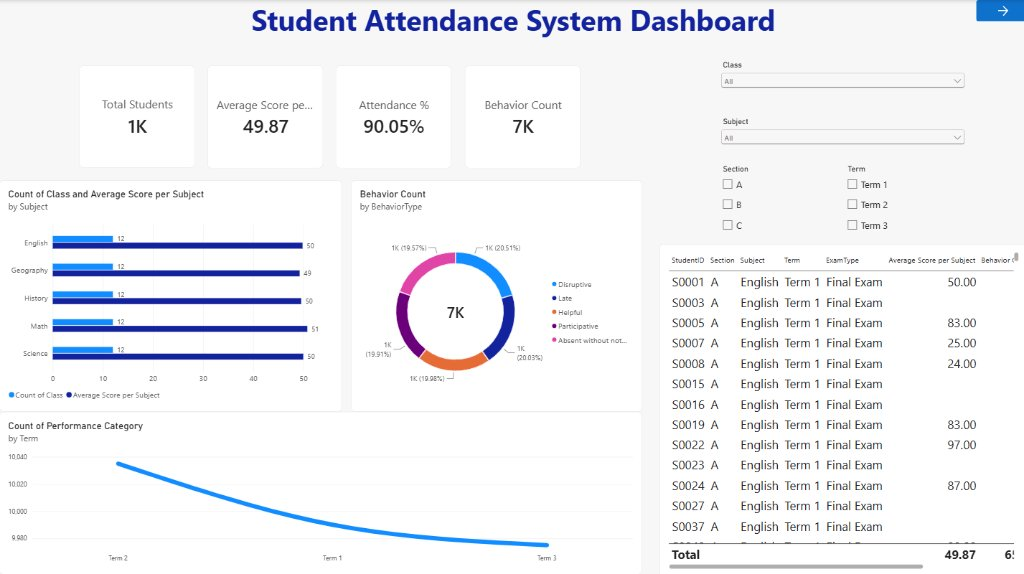

The page's visual inventory and layout, read from the dashboard file:
{"tool":"powerbi","page":{"name":"Main Page","canvas":[1920,1080],"ordinal":0},"visuals":[{"type":"slicer","fields":{"Values":["Students.Class"]},"box":[1344,112,464,70.4],"z":0,"group":"g1"},{"type":"cardVisual","fields":{"Data":["_Measures.Total Students"]},"box":[148.5,122.1,216,192],"z":0},{"type":"cardVisual","fields":{"Data":["_Measures.Attendance %"]},"box":[628.5,122.1,216,192],"z":1000},{"type":"slicer","fields":{"Values":["Students.Section"]},"box":[1344,305.6,232,158.4],"z":1000,"group":"g1"},{"type":"cardVisual","fields":{"Data":["_Measures.Average Score per Subject"]},"box":[388.5,122.1,216,192],"z":2000},{"type":"slicer","fields":{"Values":["Scores.Subject"]},"box":[1344,217.6,464,88],"z":2000,"group":"g1"},{"type":"cardVisual","fields":{"Data":["_Measures.Behavior Count"]},"box":[868.5,122.1,216,192],"z":3000},{"type":"slicer","fields":{"Values":["Scores.Term"]},"box":[1576,305.6,232,158.4],"z":3000,"group":"g1"},{"type":"clusteredBarChart","fields":{"Category":["Scores.Subject"],"Y":["Count(Students.Class)","_Measures.Average Score per Subject"]},"box":[0,336,640,432],"z":4000},{"type":"lineChart","fields":{"Category":["Scores.Term"],"Y":["CountNonNull(Scores.Performance Category)"]},"box":[0,768,1200,304],"z":5000},{"type":"donutChart","fields":{"Category":["Behavior.BehaviorType"],"Y":["_Measures.Behavior Count"]},"box":[656,336,544,432],"z":6000},{"type":"group","id":"g1","title":"Group 1","box":[1344,112,464,352],"z":7000},{"type":"textbox","box":[464,0,992,112],"z":8000},{"type":"tableEx","fields":{"Values":["Students.StudentID","Students.Section","Scores.Subject","Scores.Term","Scores.ExamType","_Measures.Average Score per Subject","_Measures.Behavior Count","_Measures.Attendance %","Attendance.Status","Sum(Scores.Score)"]},"box":[1232,456,688,624],"z":9000},{"type":"actionButton","box":[1824,0,100,40],"z":10000}]}

Visuals, with their boxes in screenshot pixels (x1, y1, x2, y2), scaled from the page's 1920x1080 canvas onto the 1024x574 screenshot:
slicer - Students.Class: (717, 60, 964, 97)
cardVisual - _Measures.Total Students: (79, 65, 194, 167)
cardVisual - _Measures.Attendance %: (335, 65, 450, 167)
slicer - Students.Section: (717, 162, 841, 247)
cardVisual - _Measures.Average Score per Subject: (207, 65, 322, 167)
slicer - Scores.Subject: (717, 116, 964, 162)
cardVisual - _Measures.Behavior Count: (463, 65, 578, 167)
slicer - Scores.Term: (841, 162, 964, 247)
clusteredBarChart - Scores.Subject x Count(Students.Class): (0, 179, 341, 408)
lineChart - Scores.Term x CountNonNull(Scores.Performance Category): (0, 408, 640, 570)
donutChart - Behavior.BehaviorType x _Measures.Behavior Count: (350, 179, 640, 408)
"Group 1" group: (717, 60, 964, 247)
textbox: (247, 0, 777, 60)
tableEx - Students.StudentID x Students.Section: (657, 242, 1023, 573)
actionButton: (973, 0, 1023, 21)
